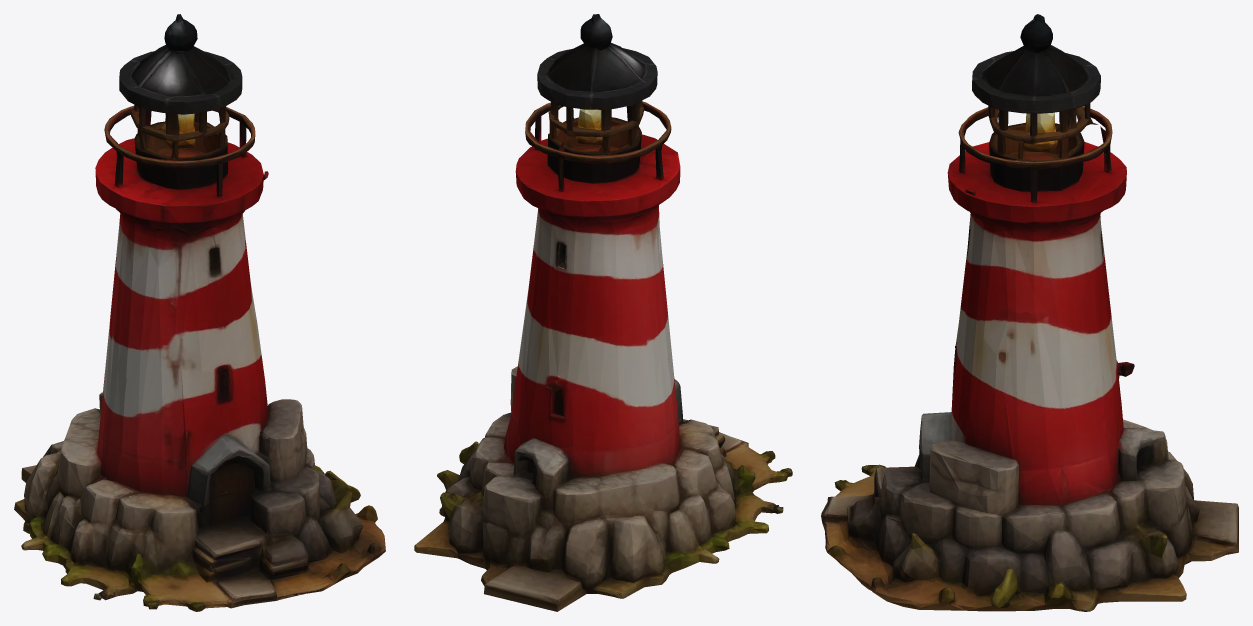
The picture shows the model from 3 angles, left to right: view 1: azimuth 30°, elevation 25°; view 2: azimuth 150°, elevation 25°; view 3: azimuth 270°, elevation 25°; orthographic projection. The views are drawn at different scales.
Visible parts, largest first — view 1: world; view 2: world; view 3: world.
Part boxes in pixels (x1,y1,x2,y2): world: (14,14,385,611); world: (414,14,792,611); world: (821,14,1238,611).
Size of the model in its own units: 0.6093 by 0.9934 by 0.7091.
Materials: 1 (1 with a texture image).
